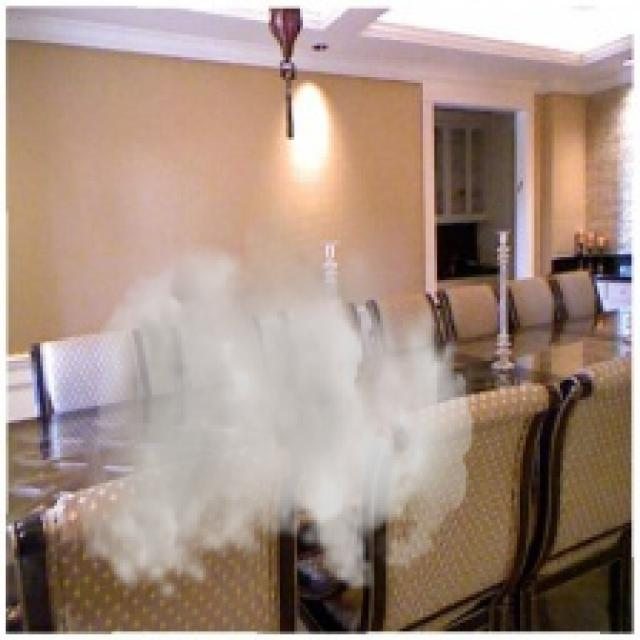smoke: (77, 191, 474, 603)
